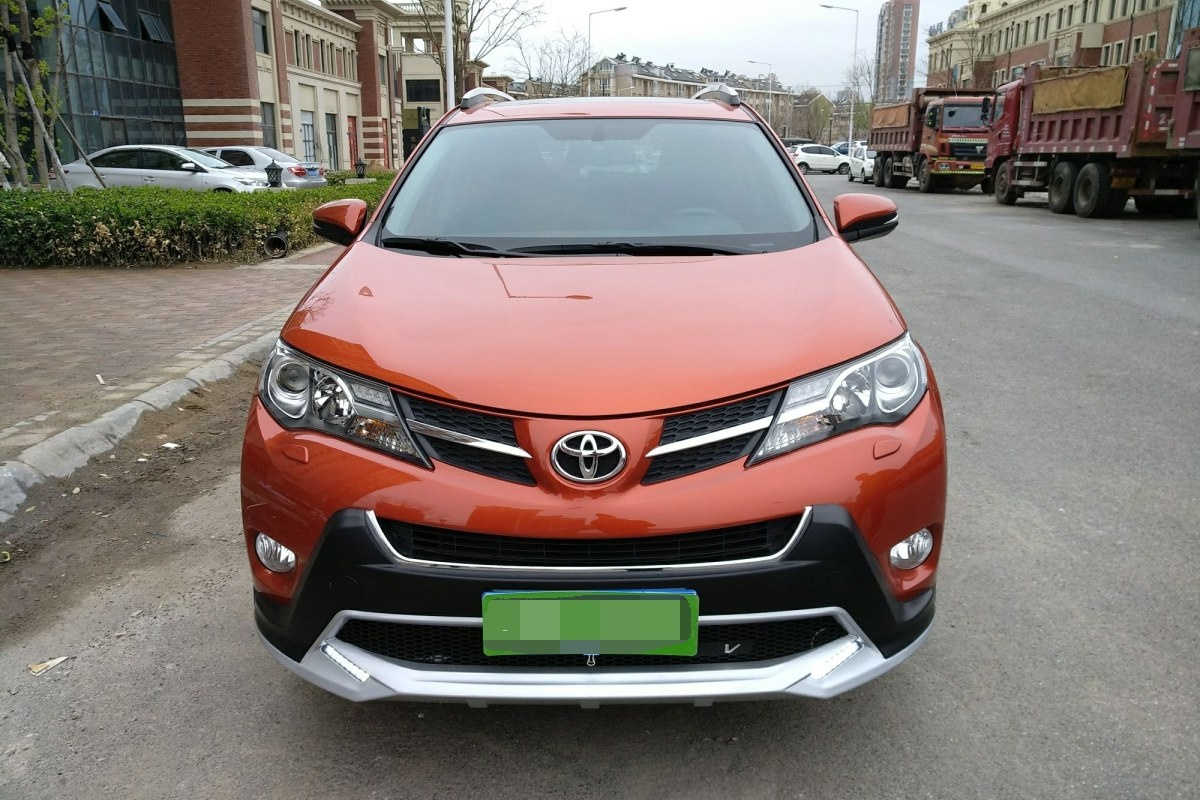SUV: (201, 76, 978, 734)
